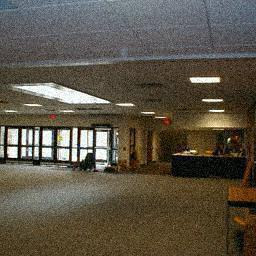Puerta: (40, 129, 71, 166), (4, 128, 32, 165)
